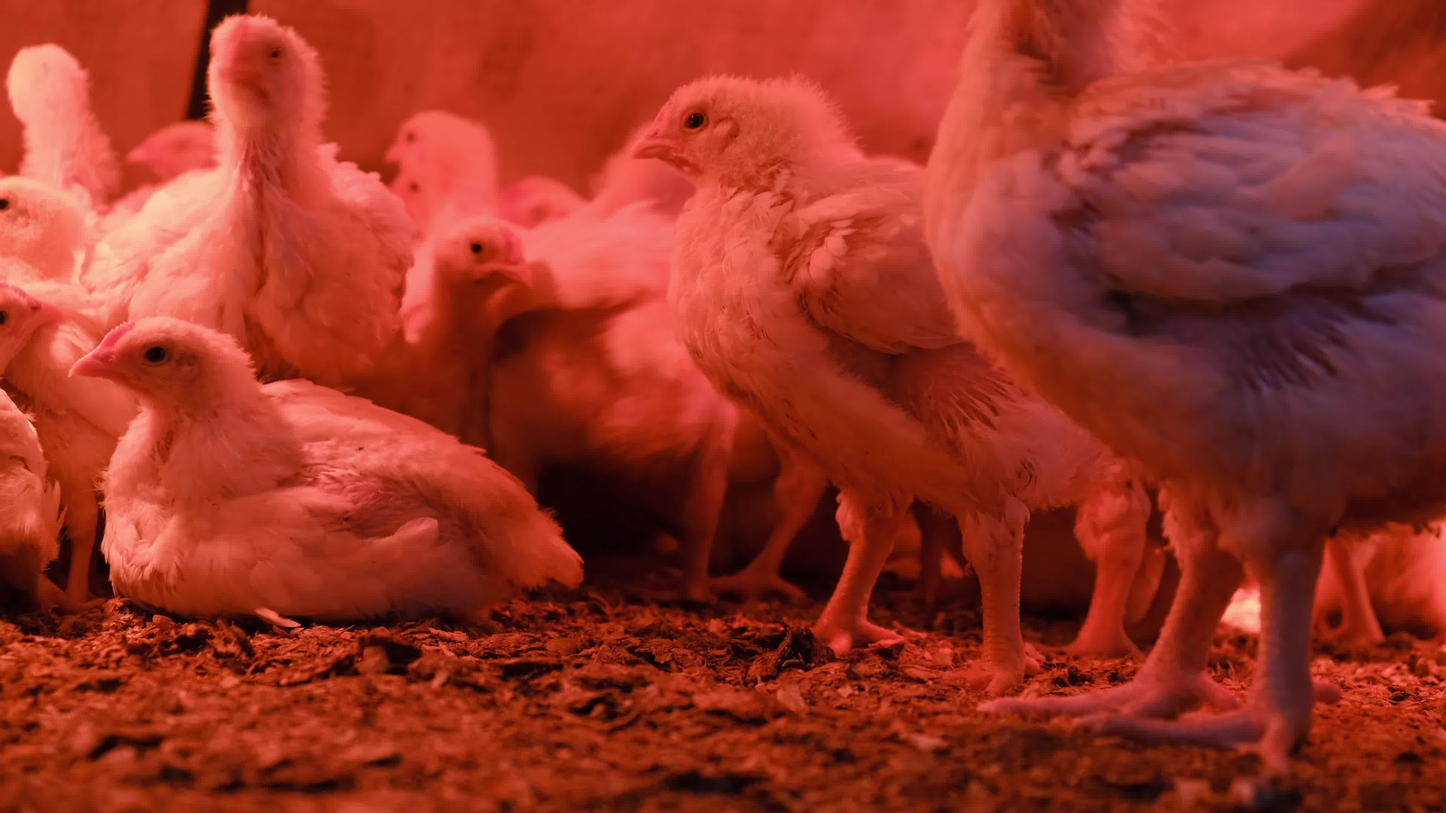AbNormal: (64, 305, 589, 623), (0, 248, 117, 655)
Normal: (943, 4, 1435, 760), (621, 75, 1073, 696), (113, 11, 444, 339), (388, 203, 570, 438), (354, 98, 529, 294), (480, 152, 672, 295), (6, 38, 134, 211), (122, 88, 250, 226), (0, 136, 132, 269)
